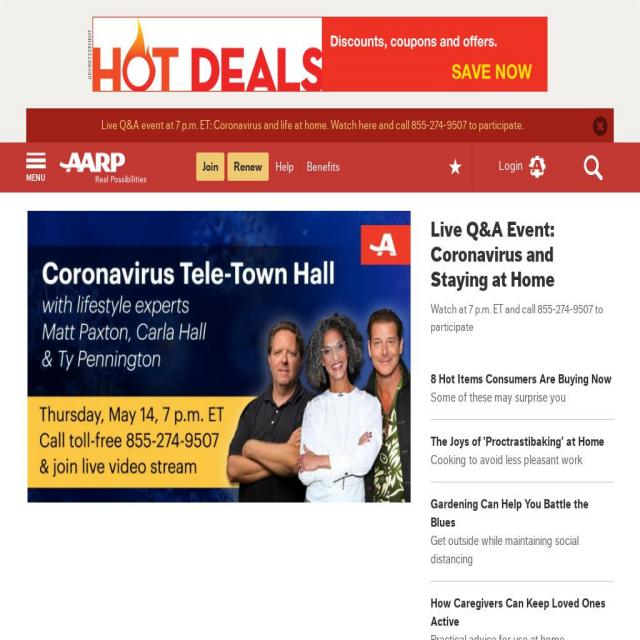login-option: (475, 150, 553, 192)
navigation-links: (192, 148, 348, 190)
options: (21, 145, 51, 188)
search: (570, 147, 618, 188)
